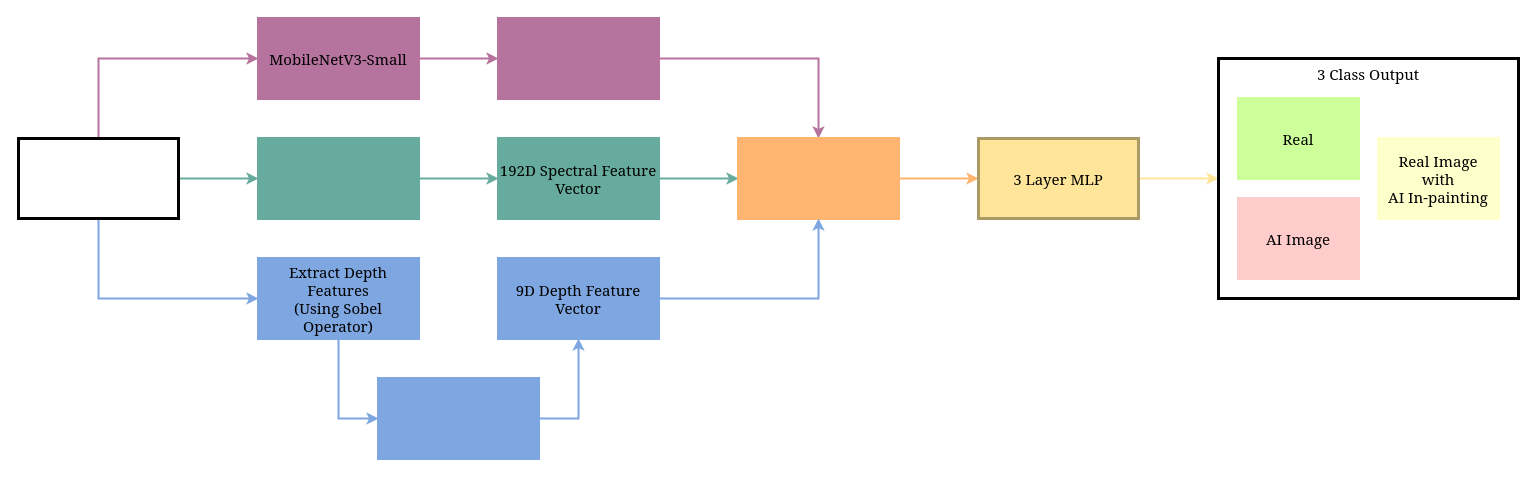
The diagram is 1537 pixels wide and 477 high, and some of its shapes have lost their labels. The shapes that lost their labels are listed below. From the top down, each one's centre as x and y in pixels, then its label:
pixel 578 58: 576D Spatial Feature Vector
pixel 98 178: Input Image
pixel 338 178: DCT + DFT (Signal Processing)
pixel 818 178: 777D Concatenated Feature Vector
pixel 458 418: Train MiDaS 3.0
